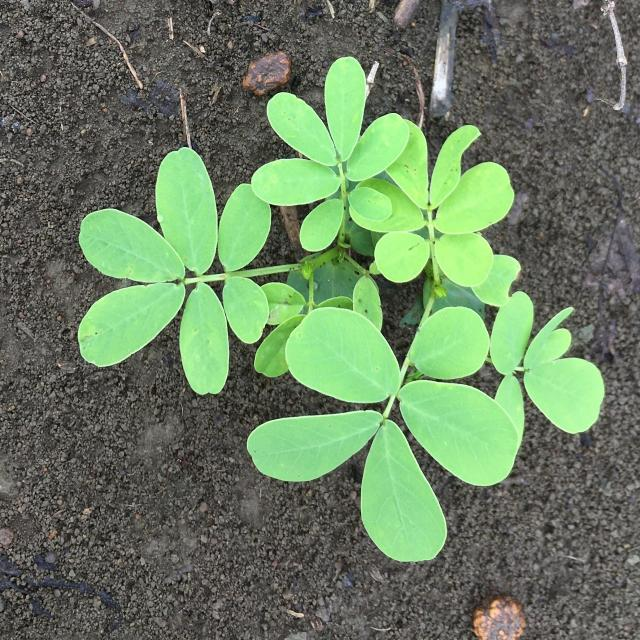Sicklepod: (77, 56, 605, 562)
